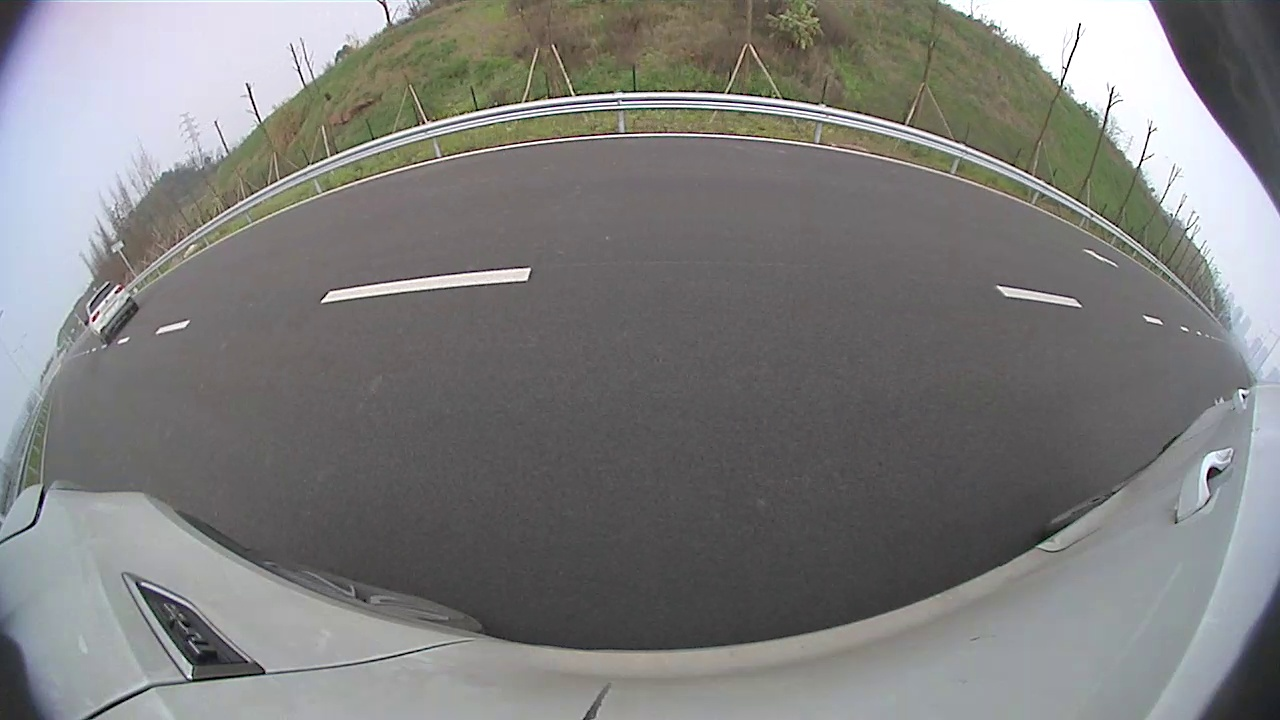car: (697, 148, 771, 196)
front: (697, 174, 708, 191)
rear: (712, 173, 725, 195)
